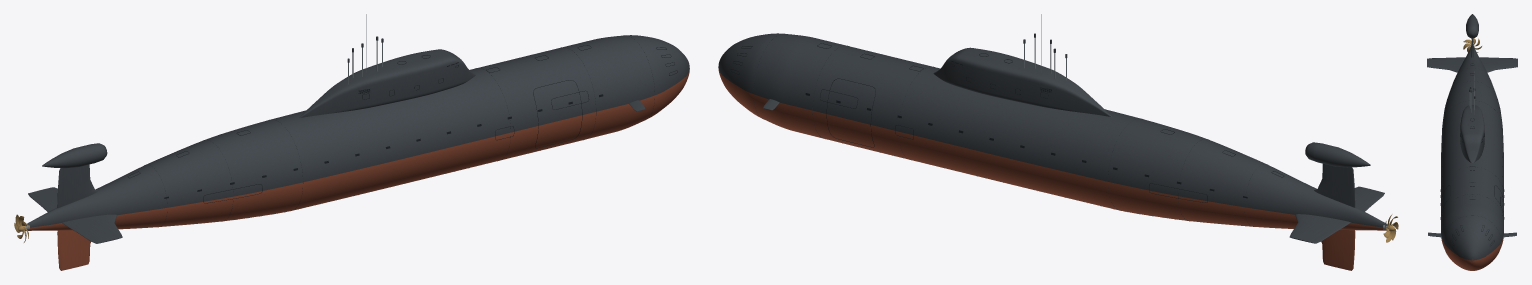
The model's file is RU_SSN_Akula_LOD2.fbx.
3 views of the same model, side by side, from view 1: azimuth 30°, elevation 25°; view 2: azimuth 150°, elevation 25°; view 3: azimuth 270°, elevation 25° (orthographic). The views are drawn at different scales.
Visible parts, largest first — view 1: RU_SSN_Akula_LOD2; view 2: RU_SSN_Akula_LOD2; view 3: RU_SSN_Akula_LOD2.
Boxes of the visible parts, x1,y1,x2,y2 form: RU_SSN_Akula_LOD2: [14, 14, 689, 270]; RU_SSN_Akula_LOD2: [718, 14, 1398, 270]; RU_SSN_Akula_LOD2: [1427, 14, 1517, 270].
Bounding box in the file's own units: 110 × 19.6 × 28.44.
